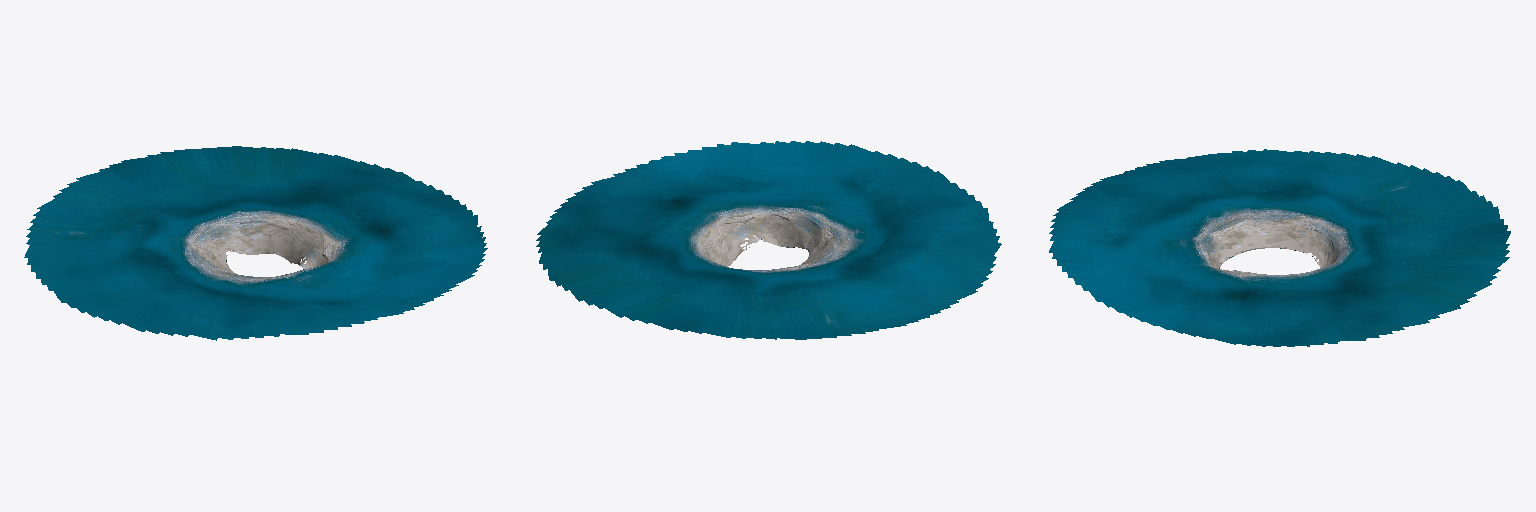
3 renders of one model, left to right at view 1: azimuth 30°, elevation 25°; view 2: azimuth 150°, elevation 25°; view 3: azimuth 270°, elevation 25°, orthographic.
Visible parts, largest first — view 1: Object_31; view 2: Object_31; view 3: Object_31.
Part boxes in pixels (bbox=[...]): Object_31: bbox=[24, 146, 487, 340]; Object_31: bbox=[536, 141, 1001, 339]; Object_31: bbox=[1049, 149, 1510, 346].
Bounding box in the file's own units: 830 × 74.8 × 822.
Materials: 1 (1 with a texture image).